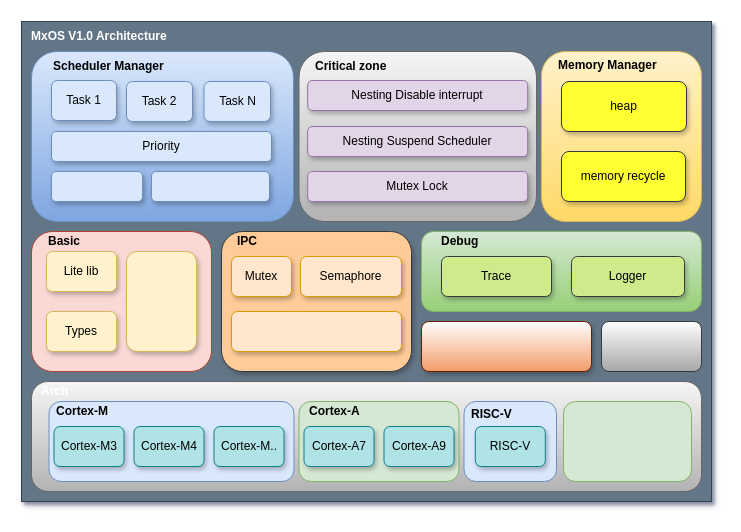
This 741x532 diagram has some shape labels left out. The shapes that lost their labels are listed below. From the top down, each one's centre as x and y in pixels, then its label:
point (97, 187): Tick Manager
point (211, 187): Task State Machine
point (162, 302): Link List
point (317, 332): Queue
point (507, 347): Shell
point (651, 346): Software Timer
point (627, 441): Others
